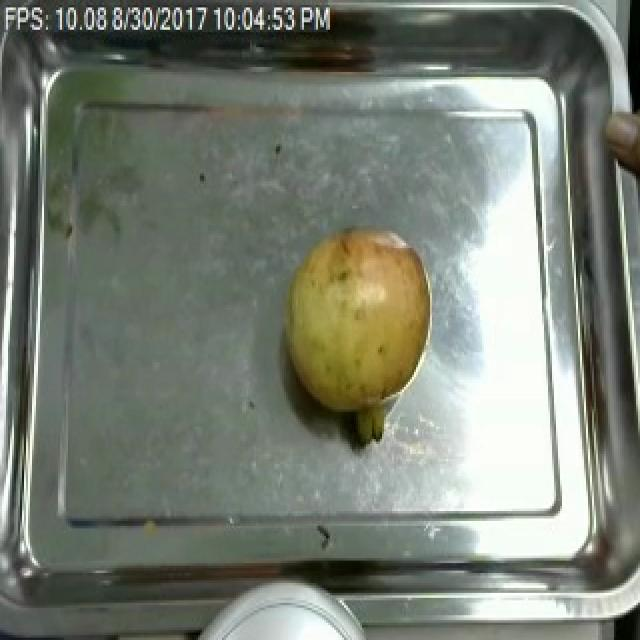fruit: (276, 216, 440, 444), (602, 94, 640, 196)
